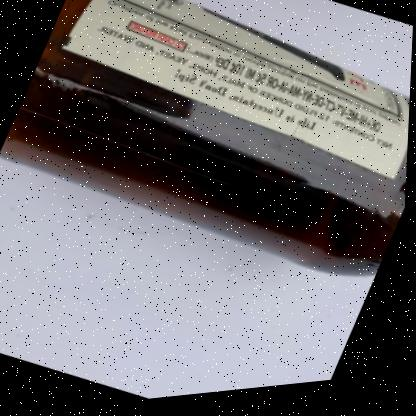Glass: (0, 0, 411, 283)
